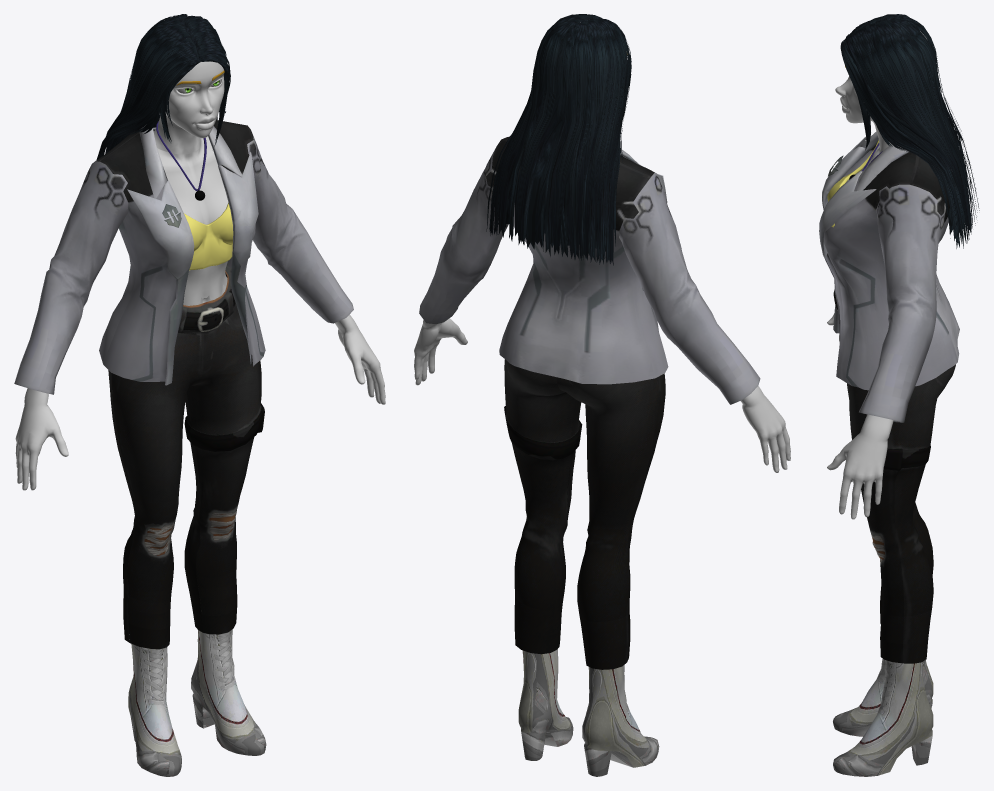
File: Character 9.fbx
3 renders of one model, left to right at view 1: azimuth 30°, elevation 25°; view 2: azimuth 150°, elevation 25°; view 3: azimuth 270°, elevation 25°, orthographic.
Parts seen in each view (by area): view 1: jacket 4, pants jean, boots 3, w hair 18, body.002, head, body.001, underwear; view 2: jacket 4, pants jean, w hair 18, boots 3, body.002; view 3: jacket 4, w hair 18, pants jean, boots 3, body.002, head, underwear.
Part boxes in pixels (bbox=[...]): jacket 4: bbox=[14, 113, 353, 394]; pants jean: bbox=[108, 265, 264, 649]; boots 3: bbox=[128, 629, 266, 776]; w hair 18: bbox=[96, 14, 230, 159]; body.002: bbox=[15, 136, 385, 490]; head: bbox=[153, 61, 224, 154]; body.001: bbox=[181, 194, 228, 303]; underwear: bbox=[184, 203, 233, 270]; jacket 4: bbox=[419, 136, 760, 404]; pants jean: bbox=[504, 359, 665, 669]; w hair 18: bbox=[486, 14, 631, 265]; boots 3: bbox=[518, 649, 659, 776]; body.002: bbox=[414, 318, 790, 472]; jacket 4: bbox=[819, 131, 959, 422]; w hair 18: bbox=[840, 14, 979, 248]; pants jean: bbox=[833, 289, 955, 663]; boots 3: bbox=[833, 659, 933, 776]; body.002: bbox=[827, 145, 893, 519]; head: bbox=[835, 31, 926, 151]; underwear: bbox=[827, 140, 878, 227].
Size of the model in its own units: 96.47 by 187 by 37.36.
